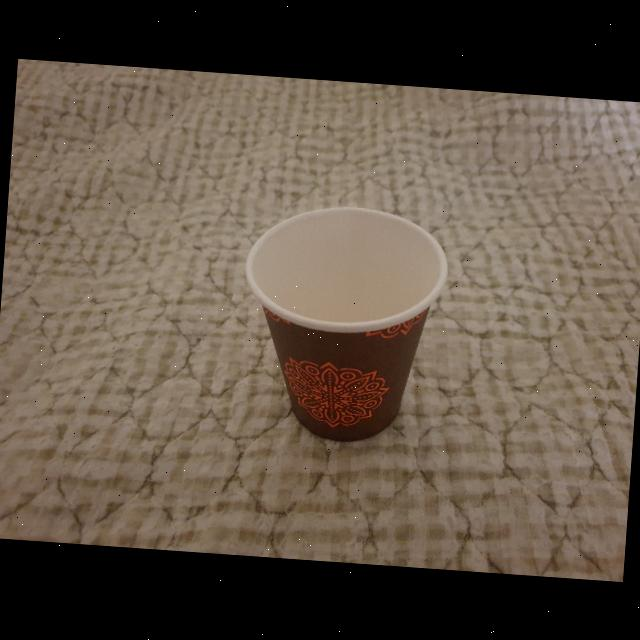trash: (224, 194, 456, 455)
